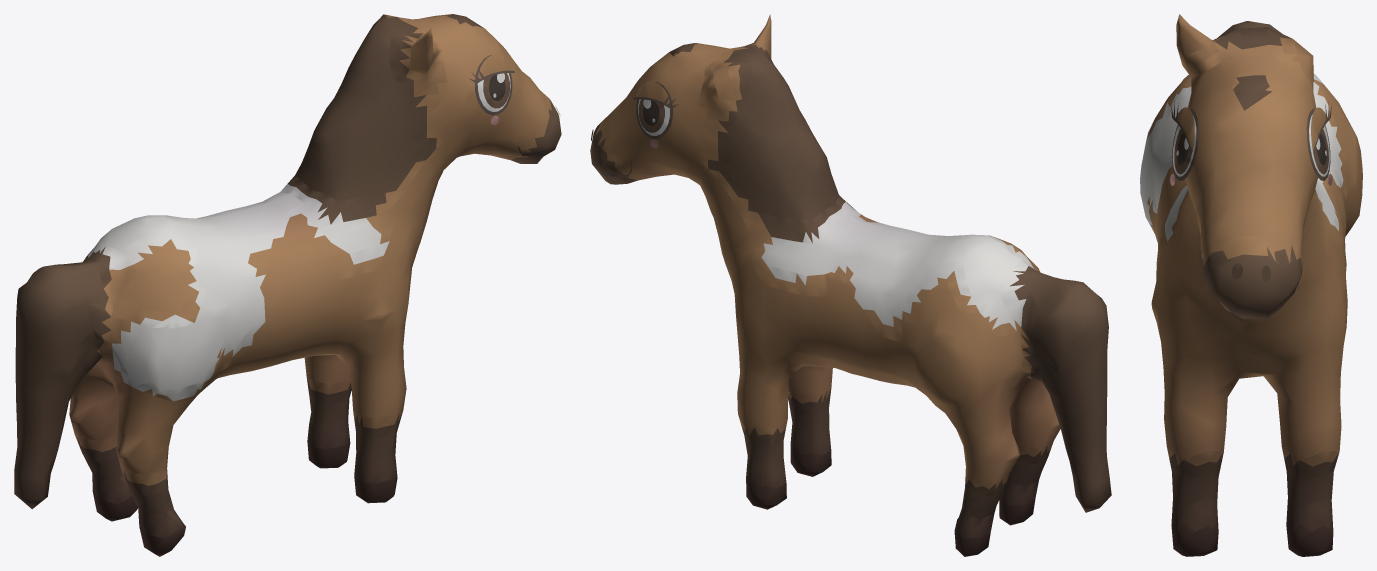
The model's file is mustang.glb.
The picture shows the model from 3 angles, left to right: view 1: azimuth 30°, elevation 25°; view 2: azimuth 150°, elevation 25°; view 3: azimuth 270°, elevation 25°; orthographic projection. The views are drawn at different scales.
Parts seen in each view (by area): view 1: mustang; view 2: mustang; view 3: mustang.
Part boxes in pixels (x1=…): mustang: x1=14, y1=14, x2=561, y2=556; mustang: x1=590, y1=14, x2=1111, y2=556; mustang: x1=1140, y1=14, x2=1362, y2=556.
Bounding box in the file's own units: 1.09 × 0.9016 × 0.32.
